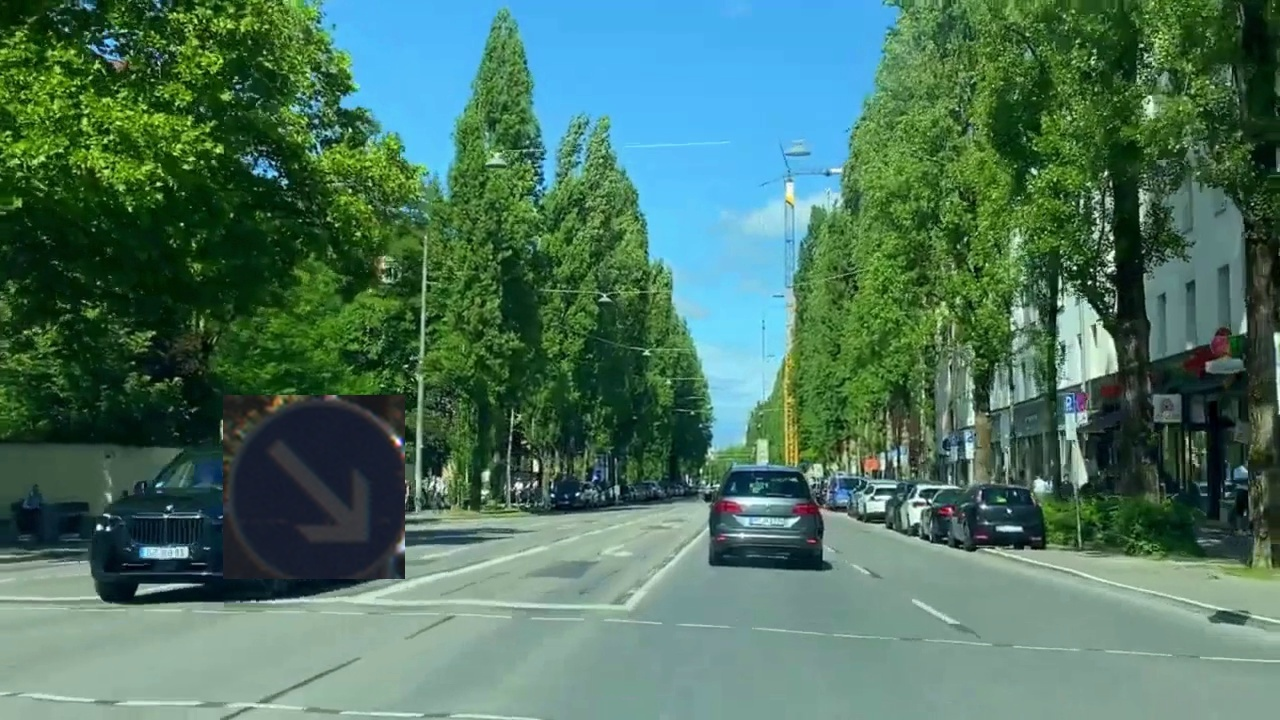Keep right: (223, 395, 405, 579)
